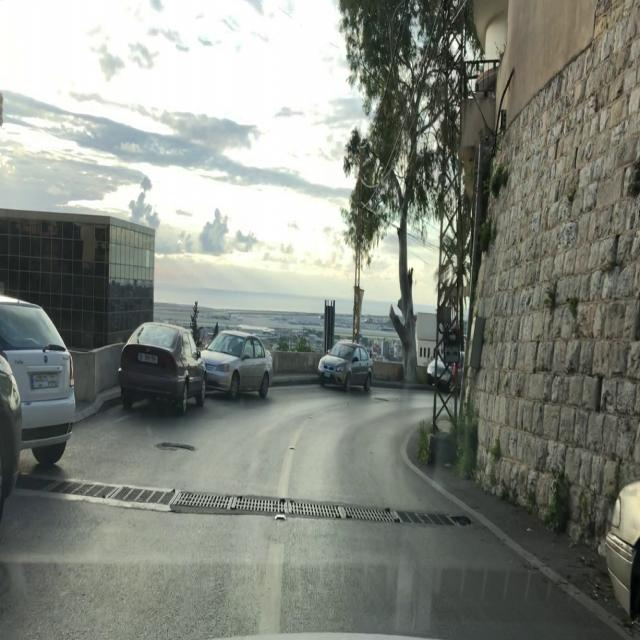Pothole: (150, 437, 197, 458)
